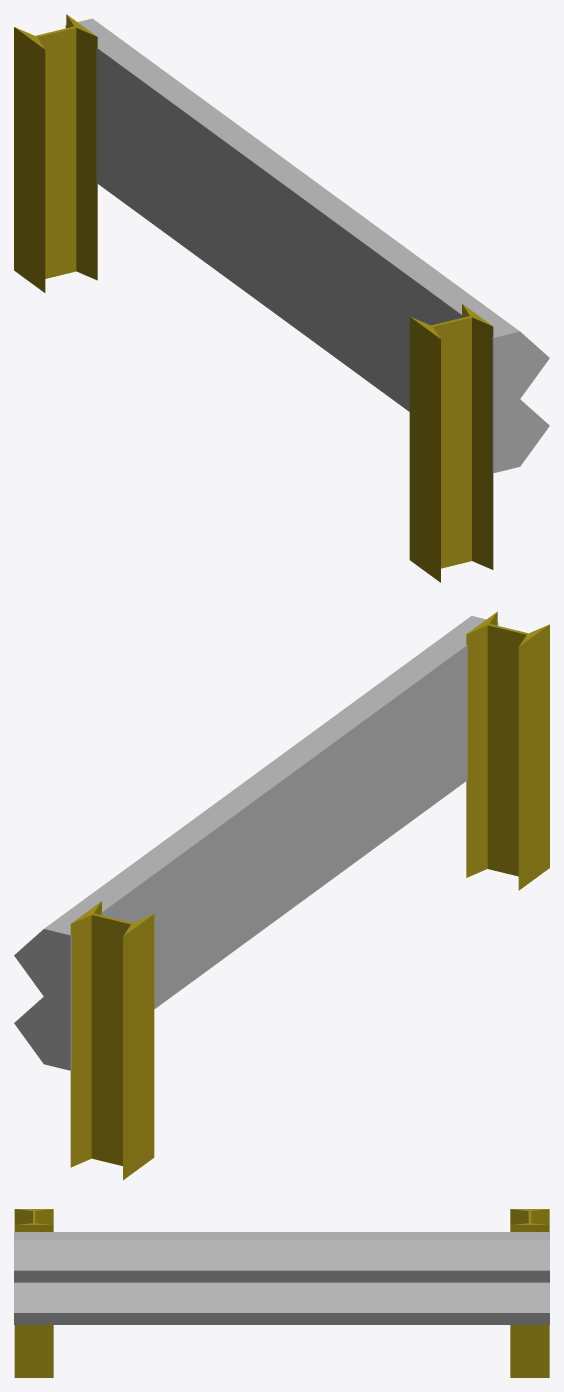
File: Barrier.glb
3 views of the same model, one above another, from view 1: azimuth 30°, elevation 25°; view 2: azimuth 150°, elevation 25°; view 3: azimuth 270°, elevation 25° (orthographic). The views are drawn at different scales.
Parts seen in each view (by area): view 1: Rails, Posts; view 2: Rails, Posts; view 3: Rails, Posts.
Boxes of the visible parts, x1,y1,x2,y2 form: Rails: (65, 18, 549, 473); Posts: (14, 14, 493, 582); Rails: (14, 616, 498, 1070); Posts: (70, 611, 549, 1180); Rails: (14, 1232, 549, 1324); Posts: (14, 1209, 549, 1377).
Size of the model in its own units: 1.68 by 3.6 by 11.45.
